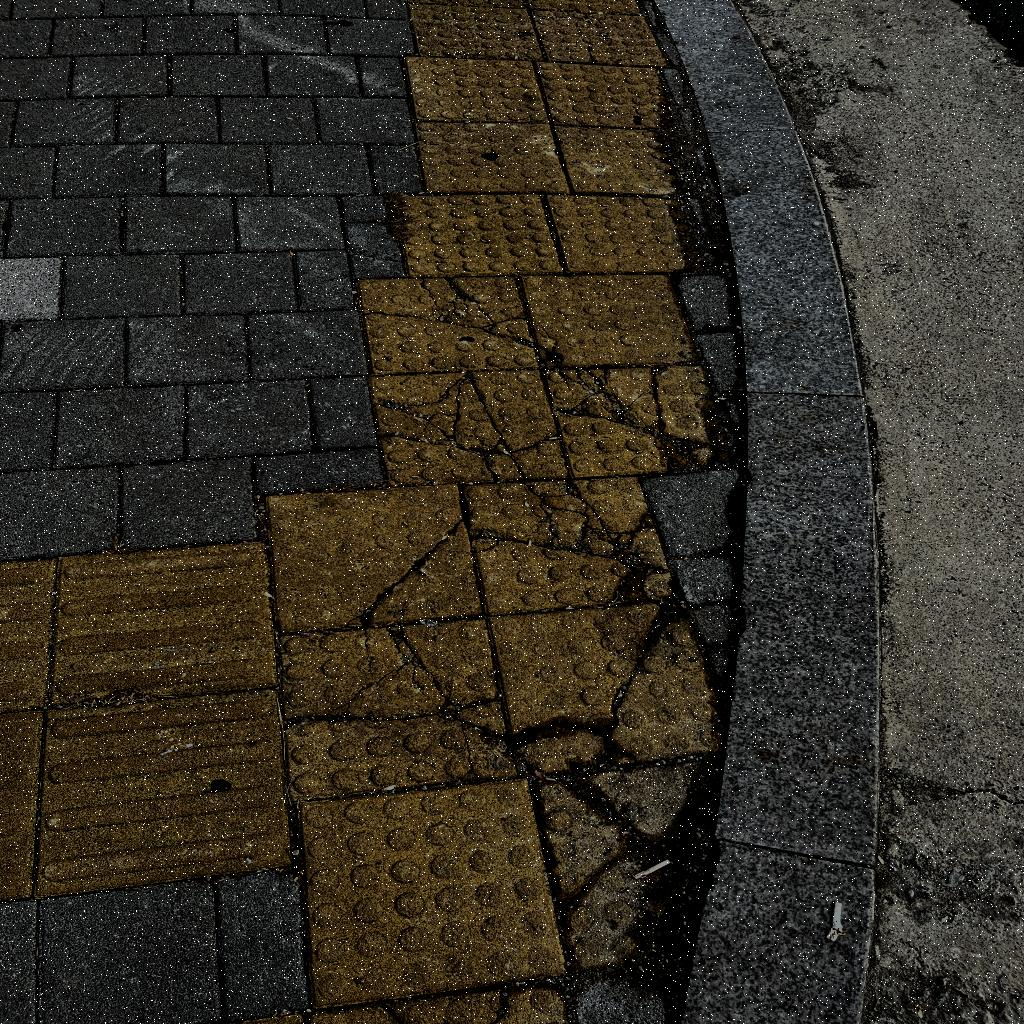Stop block broken: (491, 584, 734, 777), (277, 613, 516, 800), (268, 480, 480, 629), (466, 472, 674, 614), (545, 360, 738, 475), (373, 371, 567, 482), (359, 274, 541, 372)
Stop block normal: (285, 768, 565, 1009), (399, 192, 561, 276)
